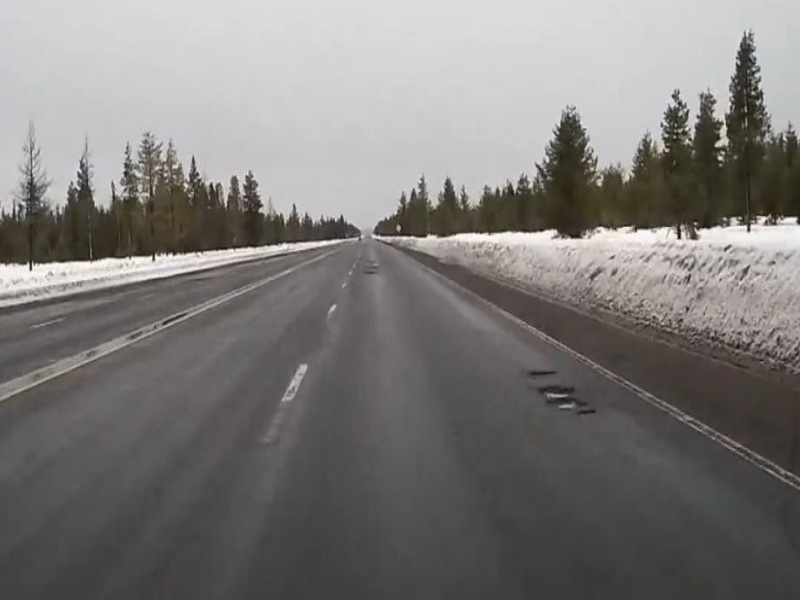pothole: (536, 384, 597, 418)
